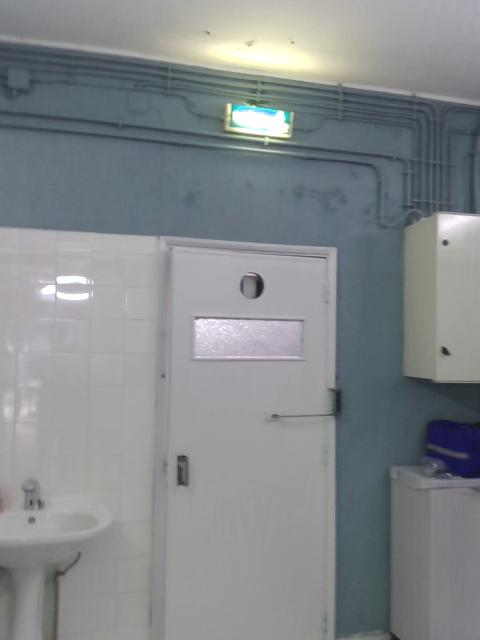closed_door: (148, 236, 335, 639)
